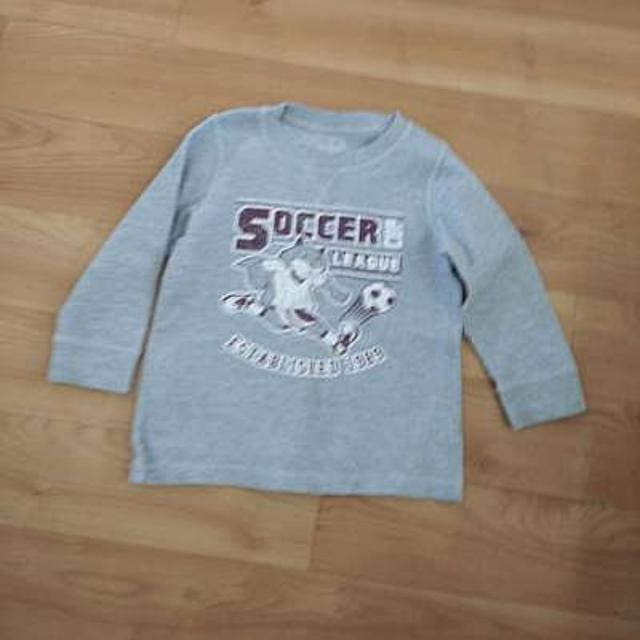SHIRT: (34, 90, 596, 507)
